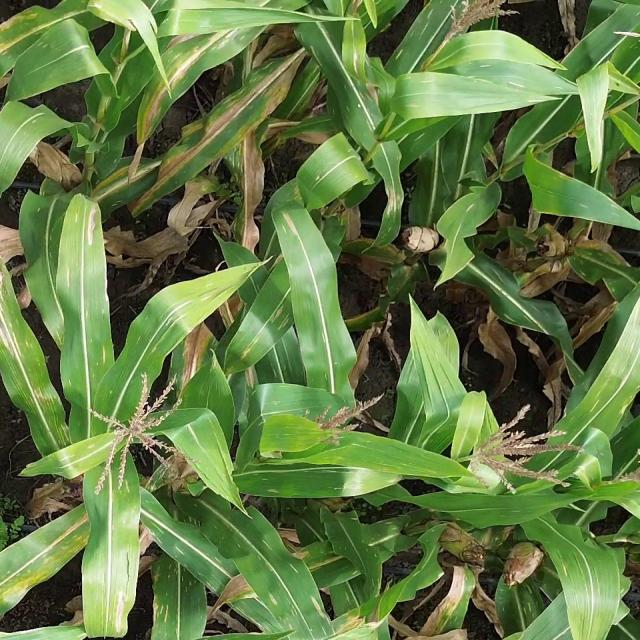gray-leaf-spot: (237, 548, 331, 631), (232, 308, 290, 362), (157, 560, 195, 620)
northern-leaf-blight: (143, 36, 231, 110), (375, 169, 416, 225), (2, 560, 54, 597), (80, 209, 110, 257), (279, 212, 313, 248)
